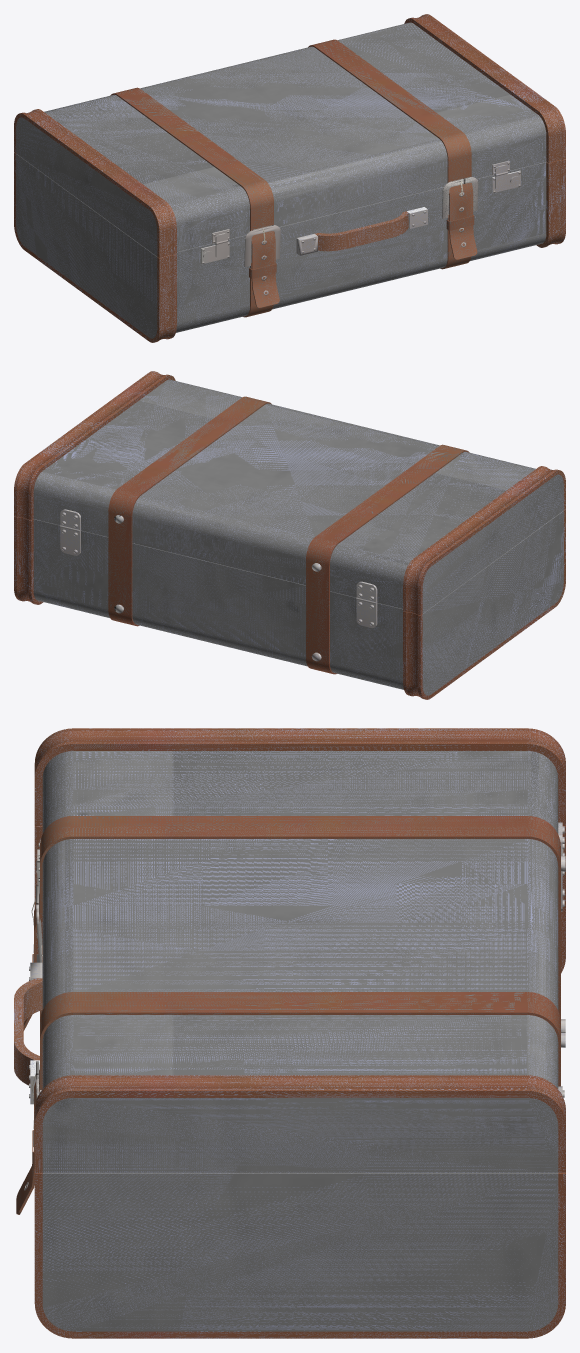
3 renders of one model, top to bottom at view 1: azimuth 30°, elevation 25°; view 2: azimuth 150°, elevation 25°; view 3: azimuth 270°, elevation 25°, orthographic. The views are drawn at different scales.
Parts seen in each view (by area): view 1: SketchUp (×10); view 2: SketchUp (×7); view 3: SketchUp (×6).
Part boxes in pixels (left/top/right/bottom): SketchUp (×10): left=14, top=14, right=565, bottom=342; SketchUp (×7): left=14, top=371, right=565, bottom=699; SketchUp (×6): left=14, top=728, right=565, bottom=1338.
Bounding box in the file's own units: 34.25 × 22.05 × 10.92.
6 materials, 4 textured.
